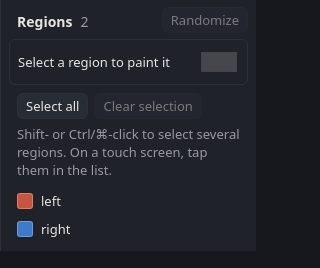
Test: RegionPanel › selects every region, and clears the selection
Expected: the text "Shift- or Ctrl/⌘-click to select several regions. On a touch screen, tap them in the list." is shown, left=17, top=125, right=240, bottom=179
Expected: the button "Clear selection" is disabled, left=94, top=93, right=202, bottom=119
Click the button "Select all": [53, 106] box left=17, top=93, right=88, bottom=119
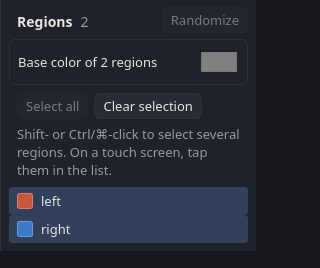
Expected: the button "Select all" is disabled, left=17, top=93, right=88, bottom=119
Expected: the button "Clear selection" is enabled
Click the button "Clear selection": [148, 106] box left=94, top=93, right=202, bottom=119
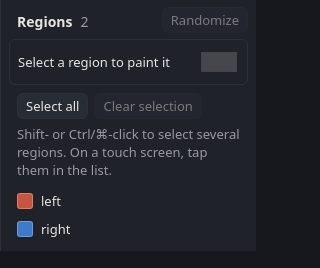
Expected: the colour field labelled "Select a region to paint it" is disabled, left=199, top=48, right=239, bottom=76
